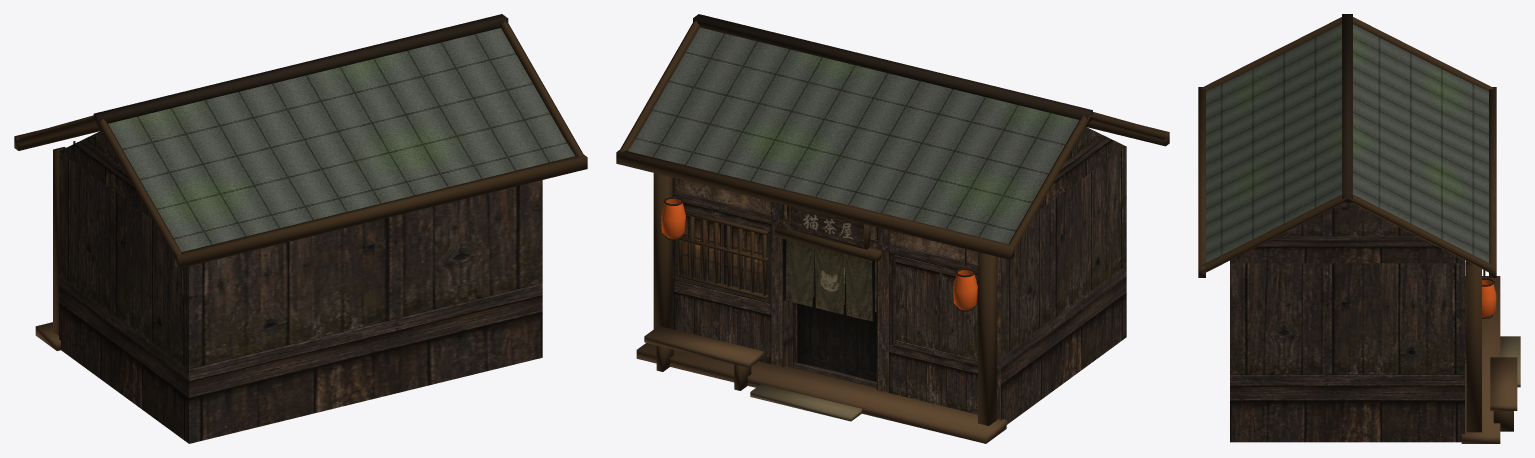
File: nyanisyarud-yokai-teahouse.glb
The picture shows the model from 3 angles, left to right: view 1: azimuth 30°, elevation 25°; view 2: azimuth 150°, elevation 25°; view 3: azimuth 270°, elevation 25°; orthographic projection. The views are drawn at different scales.
Visible parts, largest first — view 1: Neko_Pass_Teahouse_Front_Detailed; view 2: Neko_Pass_Teahouse_Front_Detailed; view 3: Neko_Pass_Teahouse_Front_Detailed.
Part boxes in pixels (x1=…): Neko_Pass_Teahouse_Front_Detailed: x1=14, y1=14, x2=587, y2=443; Neko_Pass_Teahouse_Front_Detailed: x1=616, y1=14, x2=1169, y2=443; Neko_Pass_Teahouse_Front_Detailed: x1=1198, y1=14, x2=1520, y2=443.
Size of the model in its own units: 5.11 by 3.42 by 3.83.
1 material, 1 textured.
